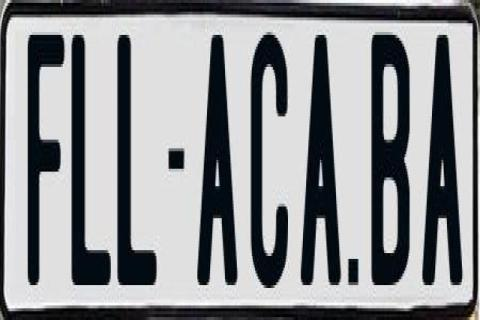A: (196, 26, 238, 291), (298, 29, 338, 294), (420, 32, 460, 288)
B: (368, 35, 408, 291)
C: (250, 29, 291, 291)
F: (27, 35, 70, 297)
L: (70, 35, 116, 288), (118, 27, 162, 286)
